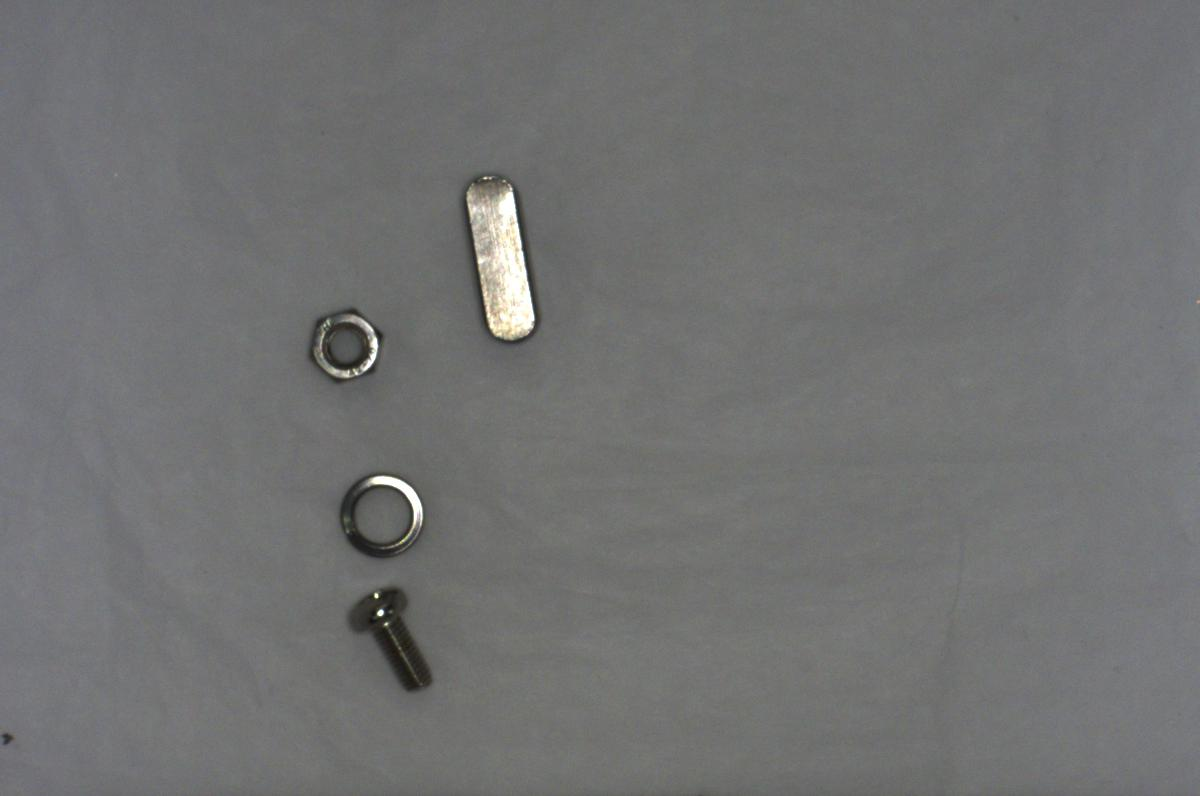Hexagon nut: (302, 296, 388, 389)
Keybar: (450, 163, 546, 343)
Round head screw: (341, 579, 439, 700)
Spring washer: (335, 474, 430, 558)
